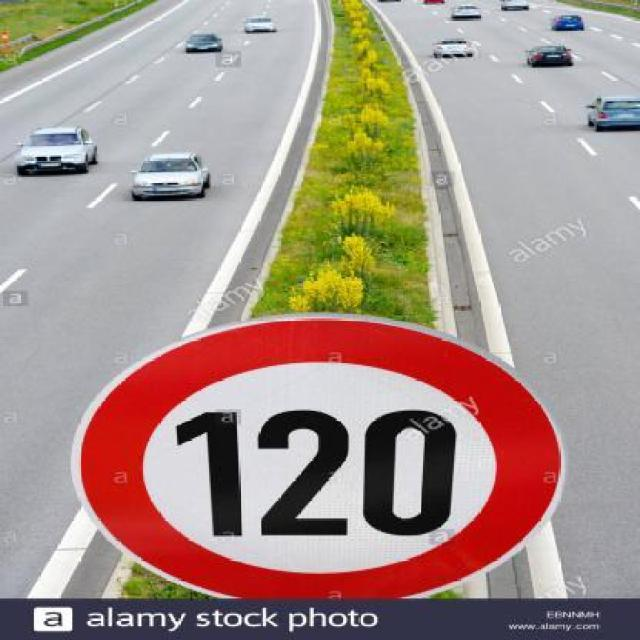forb_speed_over_120: (78, 316, 560, 601)
